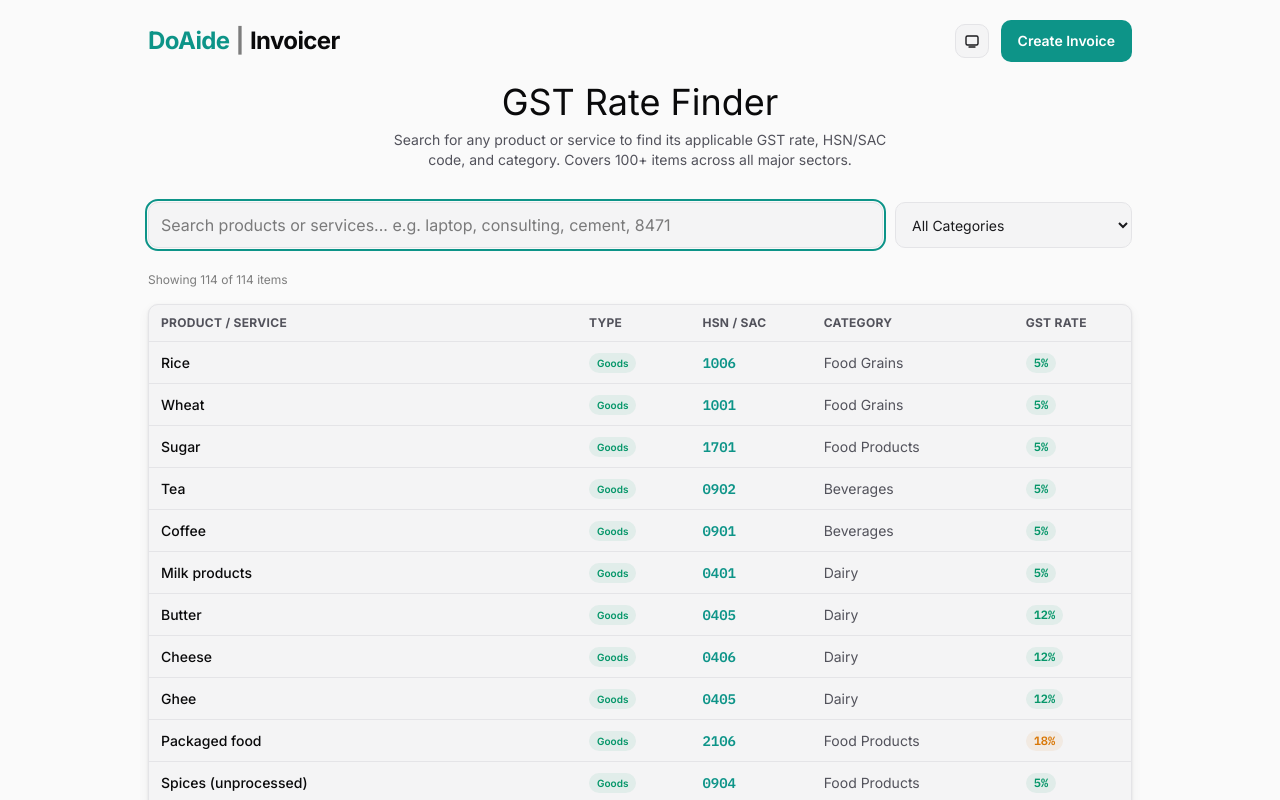
Scenario: GstRateFinderPage › filters results by search query
Replace the text in the search field with placeholder "Search products or services" with "cement": (516,225) [148,202,883,248]
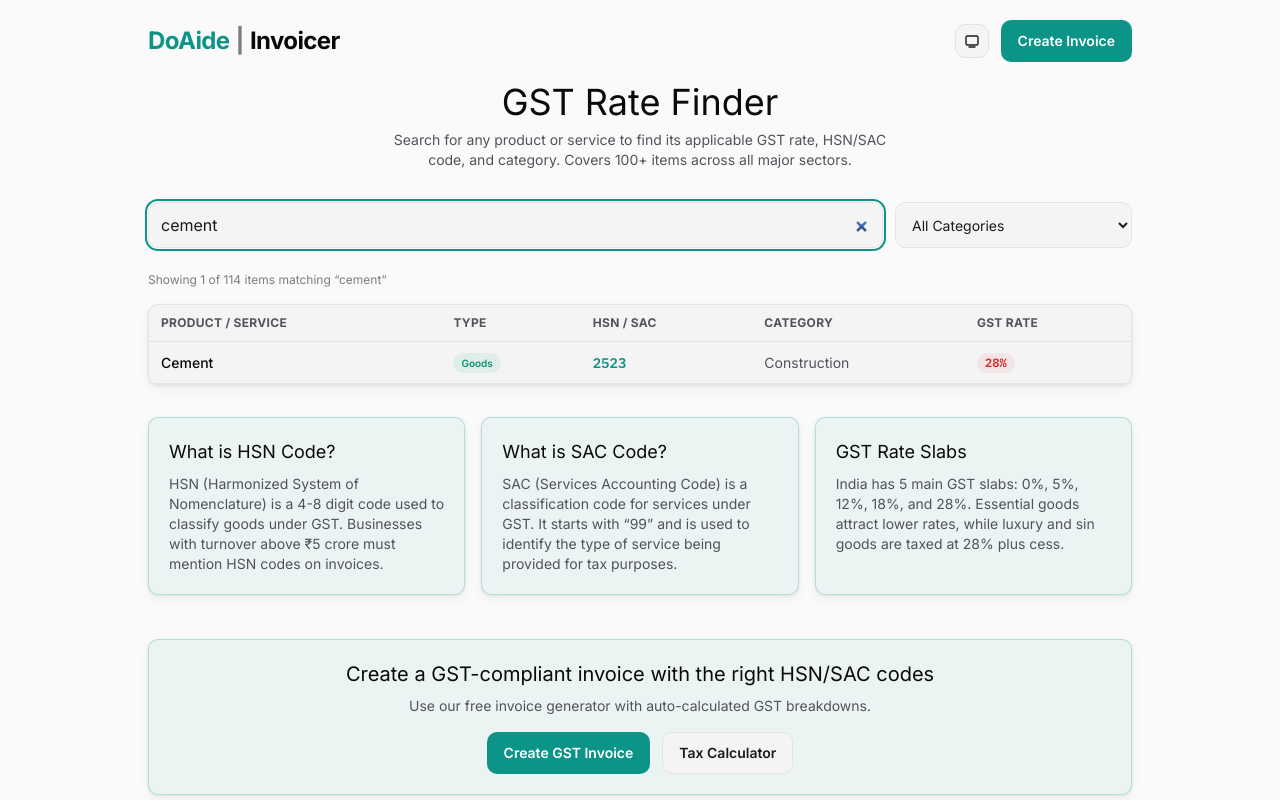
Now the text "Cement" is shown, box [149,342,442,384]
